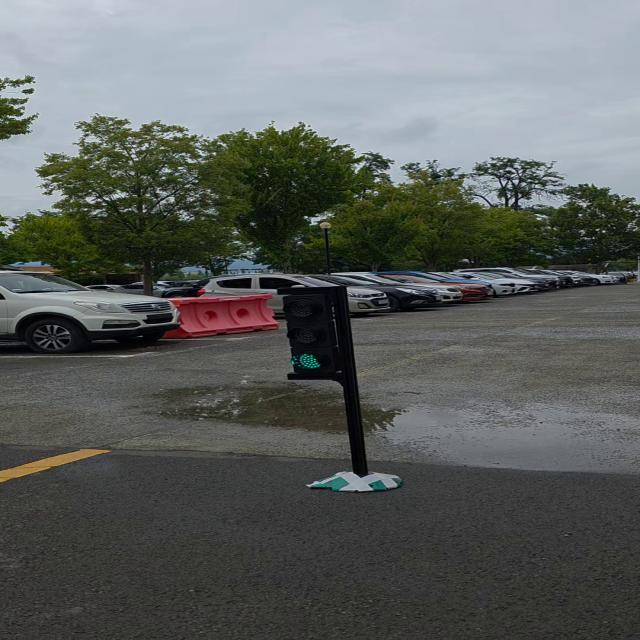green: (279, 287, 360, 381)
